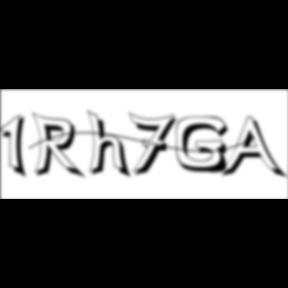1: (1, 114, 34, 182)
7: (128, 111, 183, 179)
A: (220, 116, 288, 182)
G: (176, 116, 234, 176)
R: (32, 112, 88, 182)
h: (88, 108, 134, 182)
